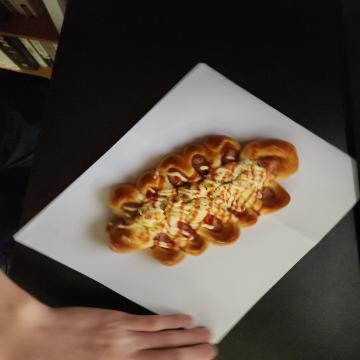pizza_bread: (132, 62, 266, 257)
